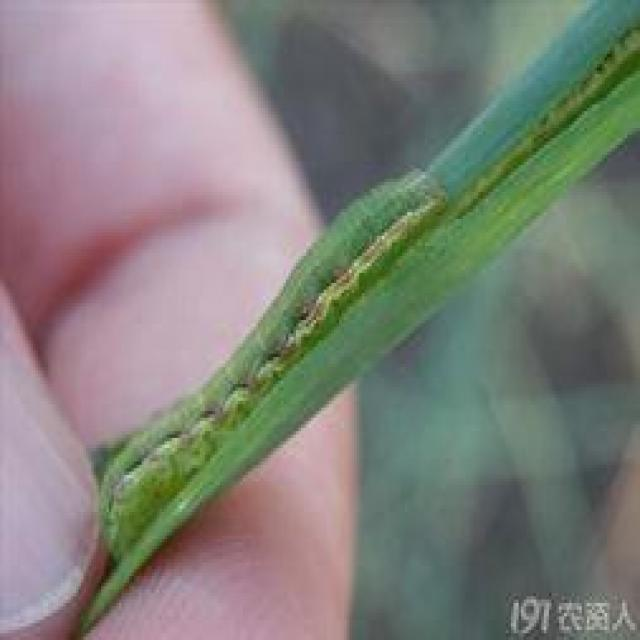BeetArmyWorm-Larva-: (95, 152, 454, 568)
